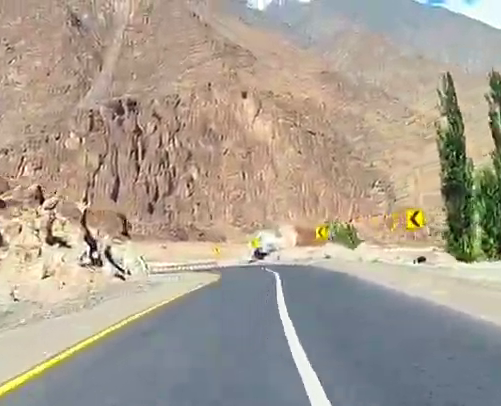right: (158, 227, 431, 353)
